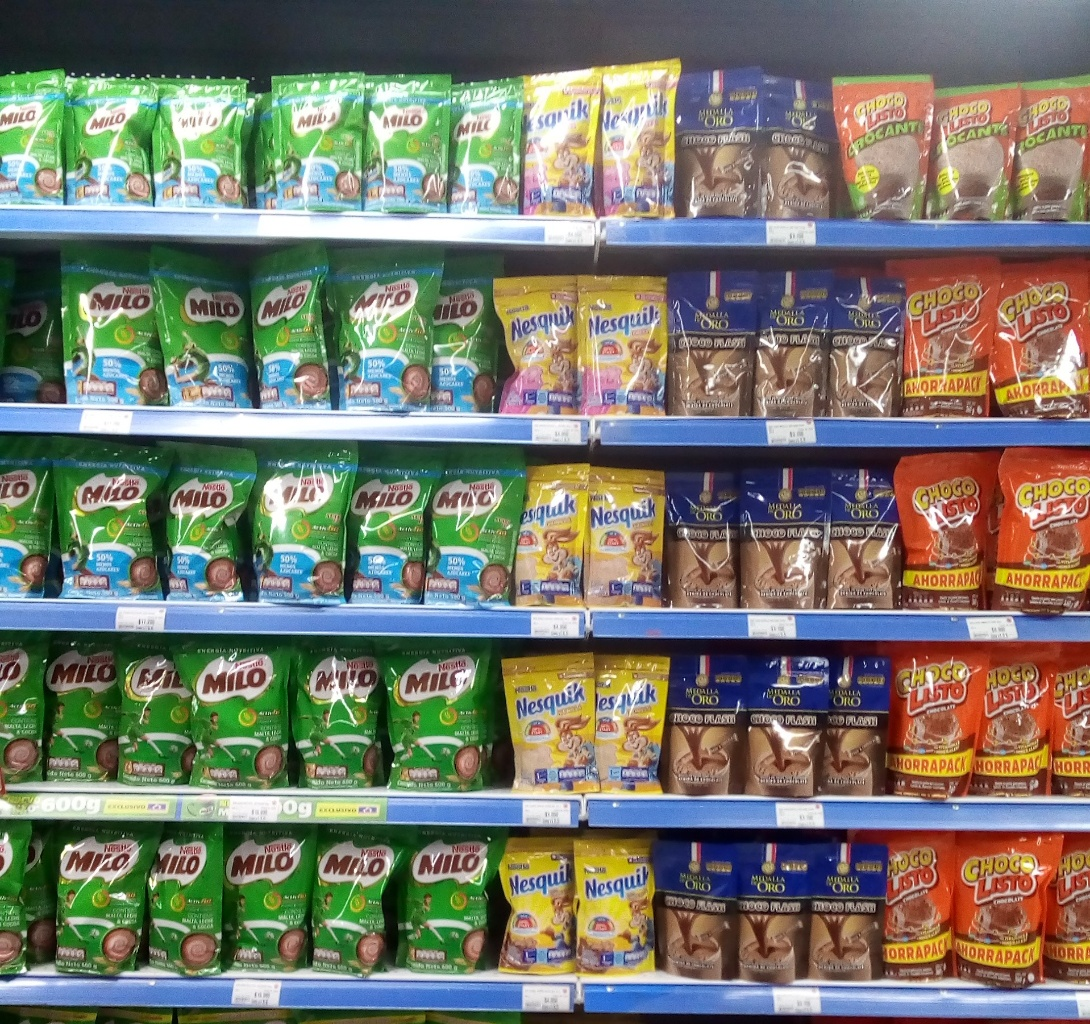COL0170102DYP25000: (832, 68, 931, 221)
COL0170103DYP36000: (898, 263, 997, 418)
COL0170205DYP20000: (2, 72, 77, 198)
COL0170205DYP50000: (0, 246, 63, 401)
COL0170303DYP20000: (499, 831, 581, 977)
COL0170305DYP20000: (524, 73, 605, 213)
COL0170306DYP20000: (518, 459, 592, 609)
